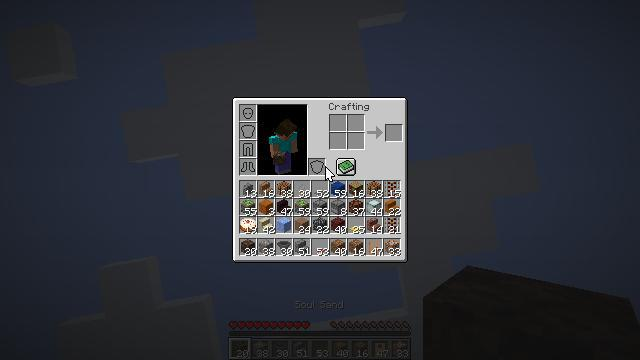cursor: (166, 325, 182, 335)
